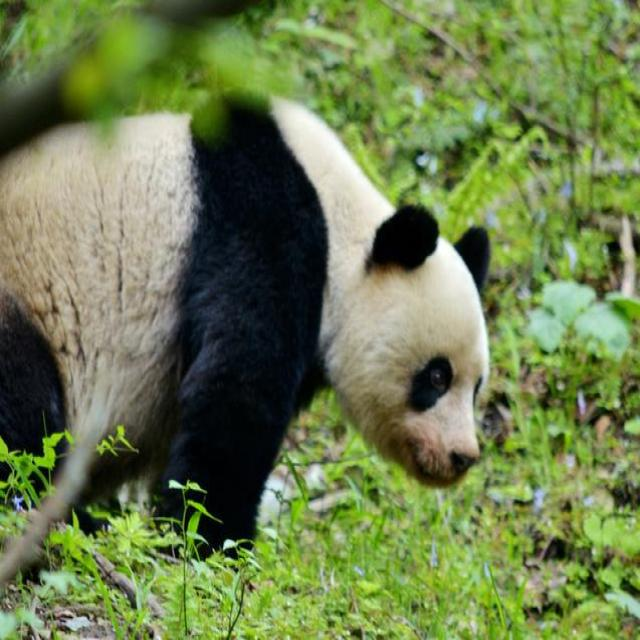panda: (0, 74, 491, 576)
